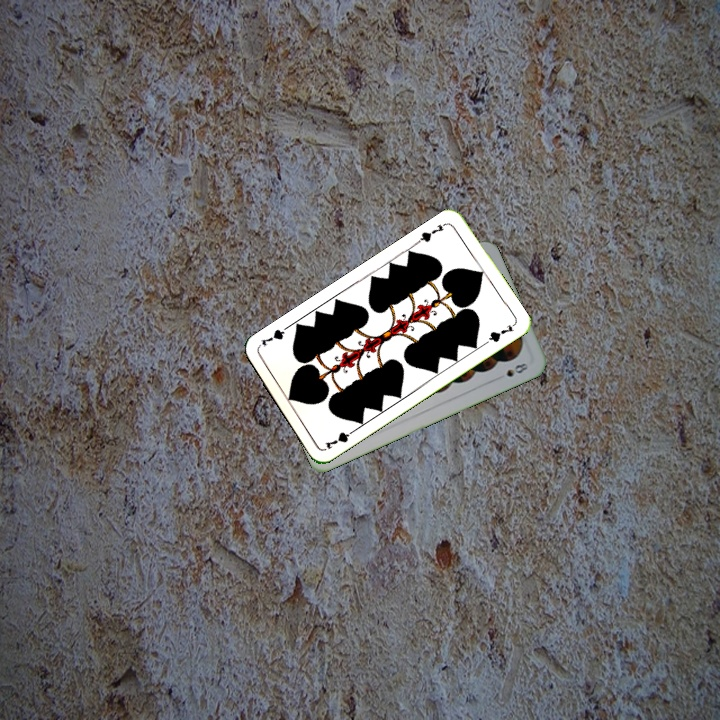G7: (321, 424, 359, 452), (413, 218, 450, 246)
